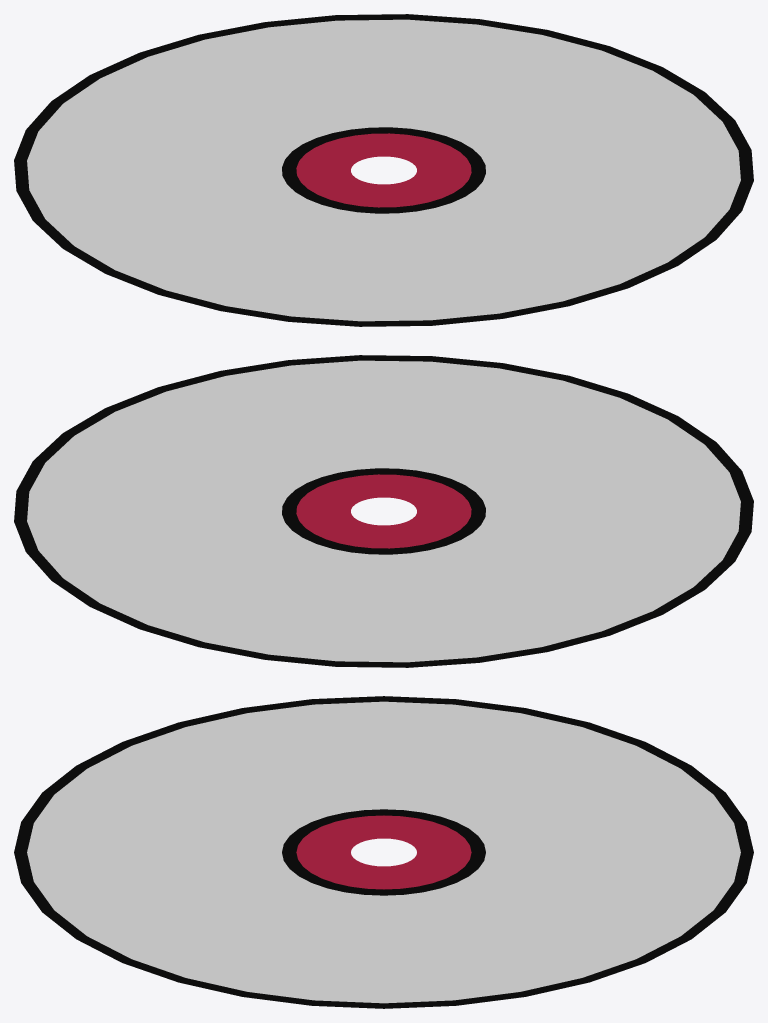
File: Vinilo.fbx
3 views of the same model, one above another, from view 1: azimuth 30°, elevation 25°; view 2: azimuth 150°, elevation 25°; view 3: azimuth 270°, elevation 25° (orthographic).
Visible parts, largest first — view 1: Circle; view 2: Circle; view 3: Circle.
Part boxes in pixels (x1,y1,x2,y2): Circle: (14, 14, 753, 326); Circle: (14, 355, 753, 667); Circle: (14, 696, 753, 1008).
Size of the model in its own units: 200 by 3.26e-05 by 200.
